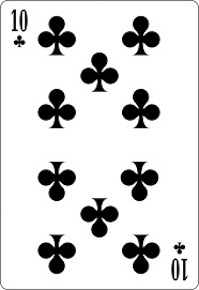TenOfClubs: (1, 1, 197, 287)
